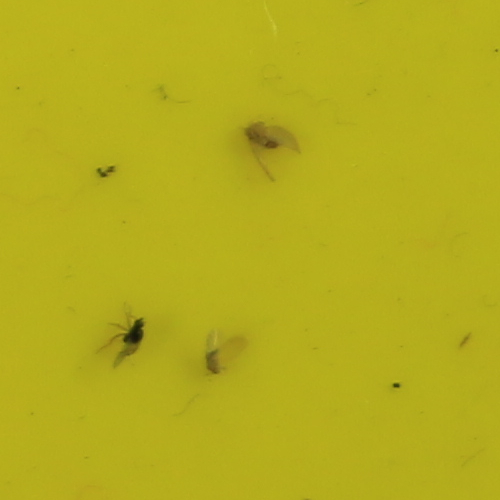psylla: (239, 120, 281, 151), (203, 348, 225, 373)
